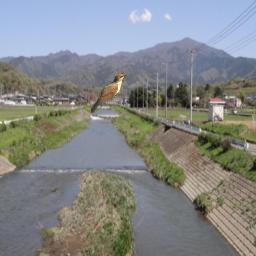Cuckoo: (91, 73, 127, 113)
